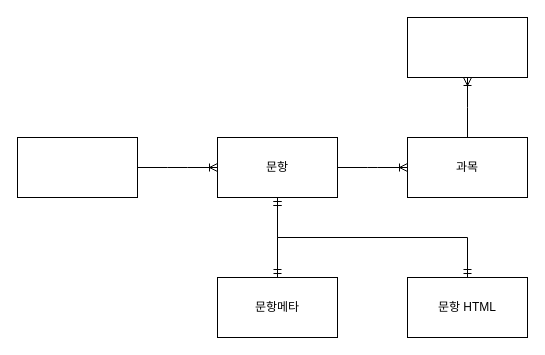
Some shapes in this 545 by 355 pixel diagram are drawn without their labels. The box of each missing label's shape, as (x1, y1, x2, y2) in pixels:
단원: (406, 16, 528, 78)
시험지: (16, 136, 138, 198)
